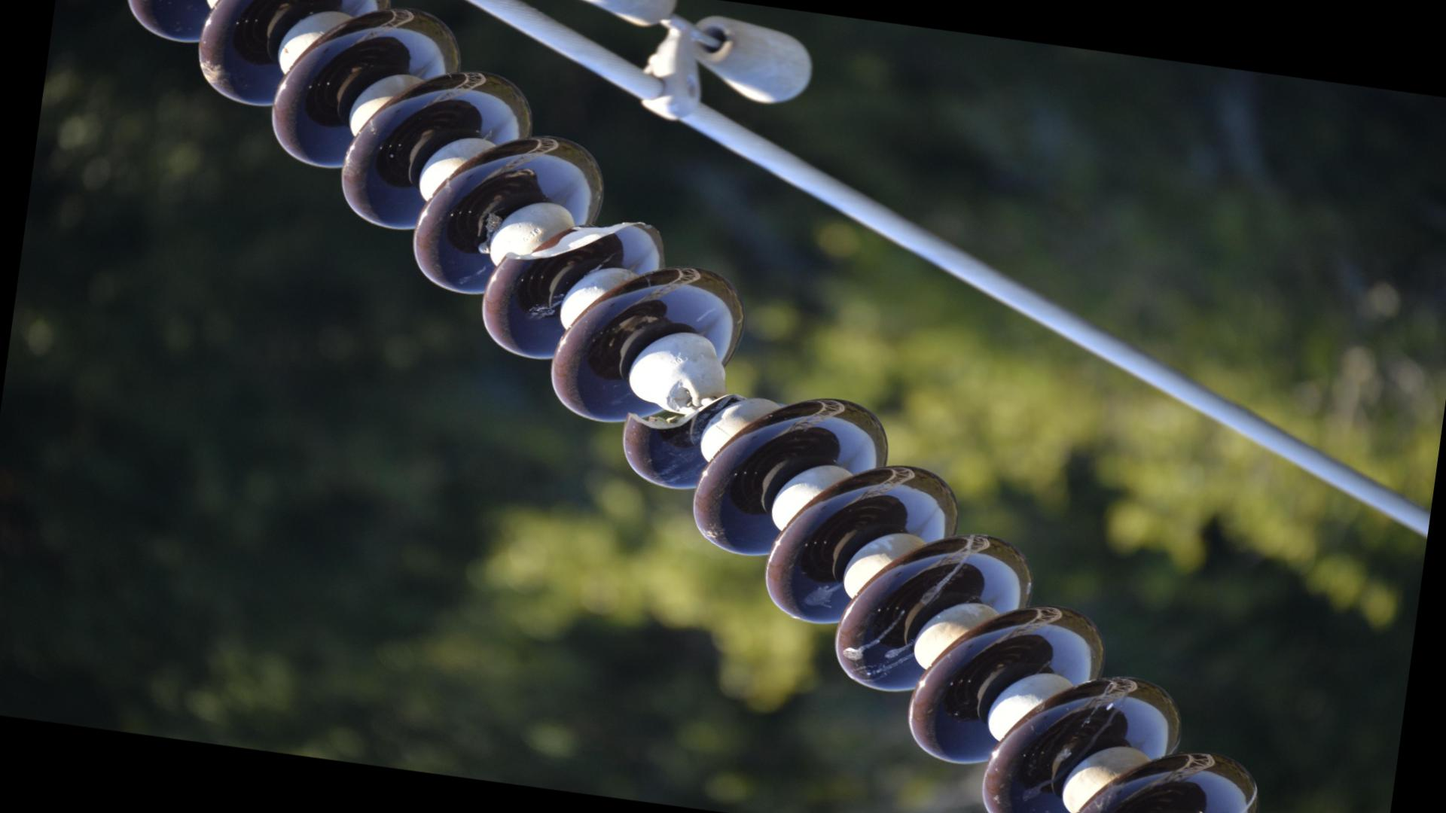damper: (525, 1, 829, 148)
